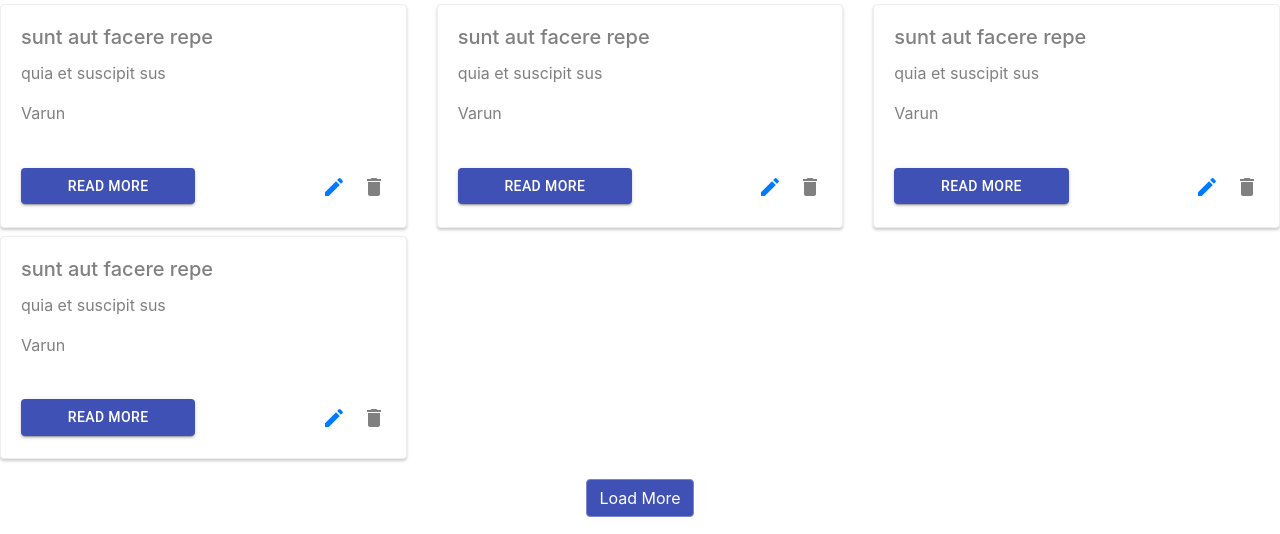
Test: Post component loaded › display post component renders more post on click of load more button
The image size is (1280, 534).
Expected: the number of elements with test id "postCard" is 4, x1=21 y1=25 x2=213 y2=123; x1=458 y1=25 x2=650 y2=123; x1=894 y1=25 x2=1086 y2=123; x1=21 y1=257 x2=213 y2=355
Click the button with test id "loadMoreButtonDiv": (640, 498) x1=586 y1=479 x2=694 y2=517
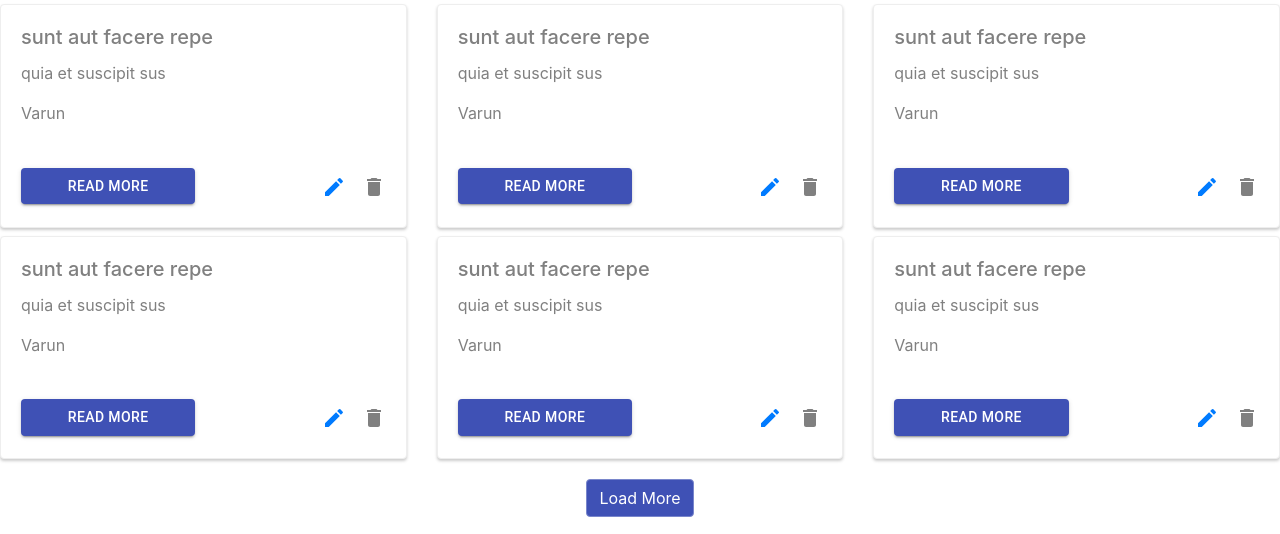
Expected: the number of elements with test id "postCard" is 6, x1=21 y1=25 x2=213 y2=123; x1=458 y1=25 x2=650 y2=123; x1=894 y1=25 x2=1086 y2=123; x1=21 y1=257 x2=213 y2=355; x1=458 y1=257 x2=650 y2=355; x1=894 y1=257 x2=1086 y2=355
